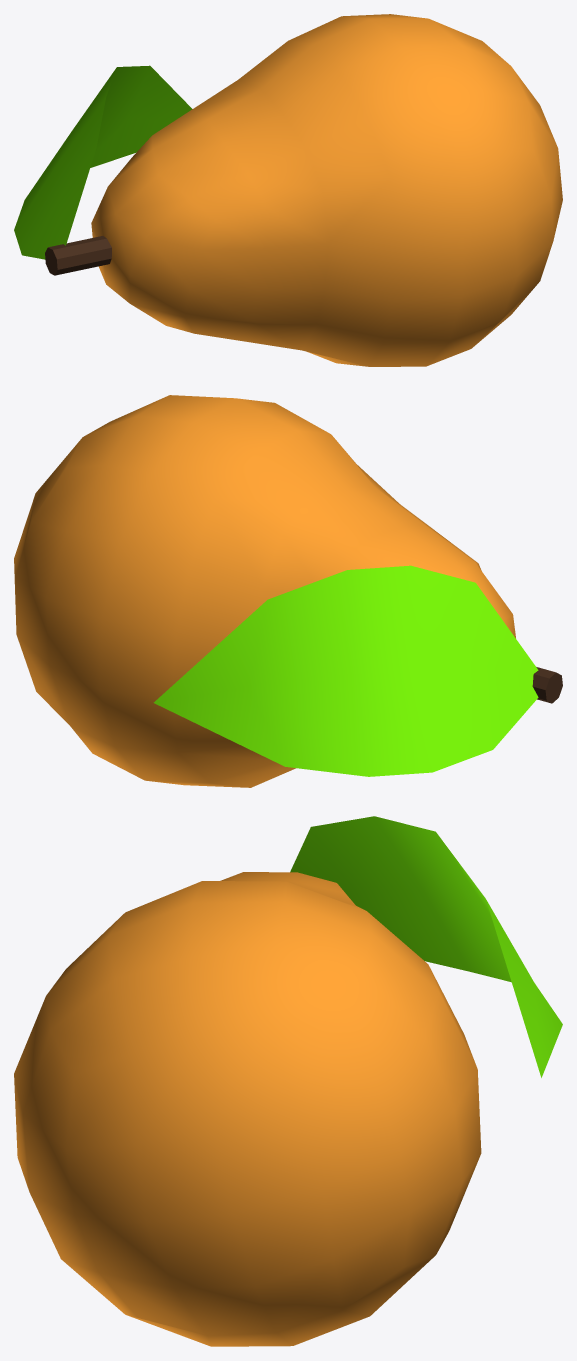
Rendered from ToyObject_166.fbx.
3 views of the same model, one above another, from view 1: azimuth 30°, elevation 25°; view 2: azimuth 150°, elevation 25°; view 3: azimuth 270°, elevation 25° (orthographic). The views are drawn at different scales.
Visible parts, largest first — view 1: object-1.066; view 2: object-1.066; view 3: object-1.066.
Boxes of the visible parts, left/top/right/bottom form: object-1.066: left=14, top=14, right=562, bottom=366; object-1.066: left=14, top=395, right=562, bottom=787; object-1.066: left=14, top=816, right=562, bottom=1346.
Size of the model in its own units: 0.191 by 0.1235 by 0.1448.
